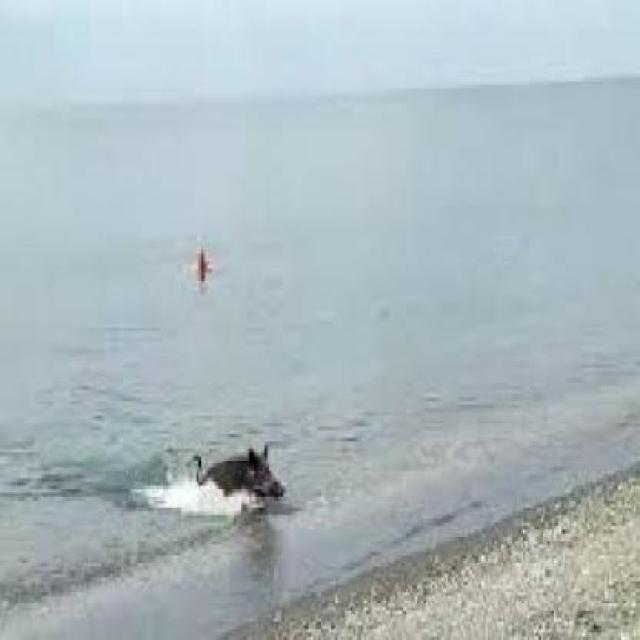wildboar: (183, 431, 291, 526)
